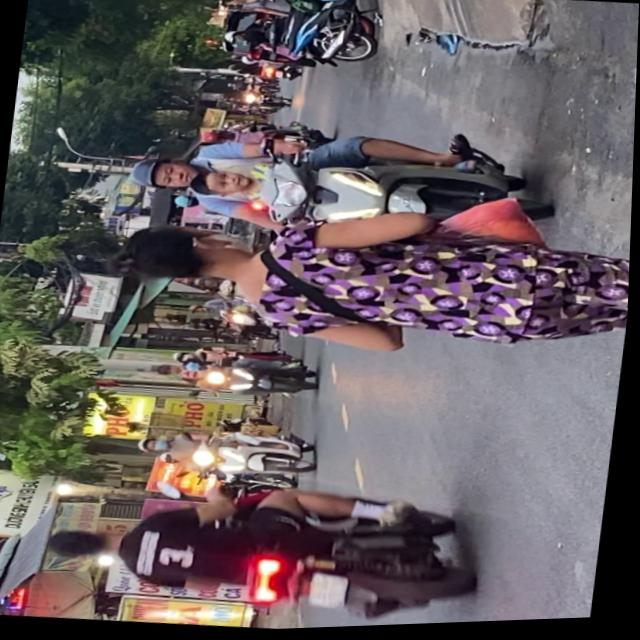helmet: (126, 156, 201, 198), (137, 437, 172, 457)
licenseplate: (39, 459, 490, 638), (117, 106, 543, 271), (134, 419, 323, 488)
motorcyclist: (47, 524, 125, 566), (200, 166, 258, 204)
nohelmet: (310, 575, 350, 613)
